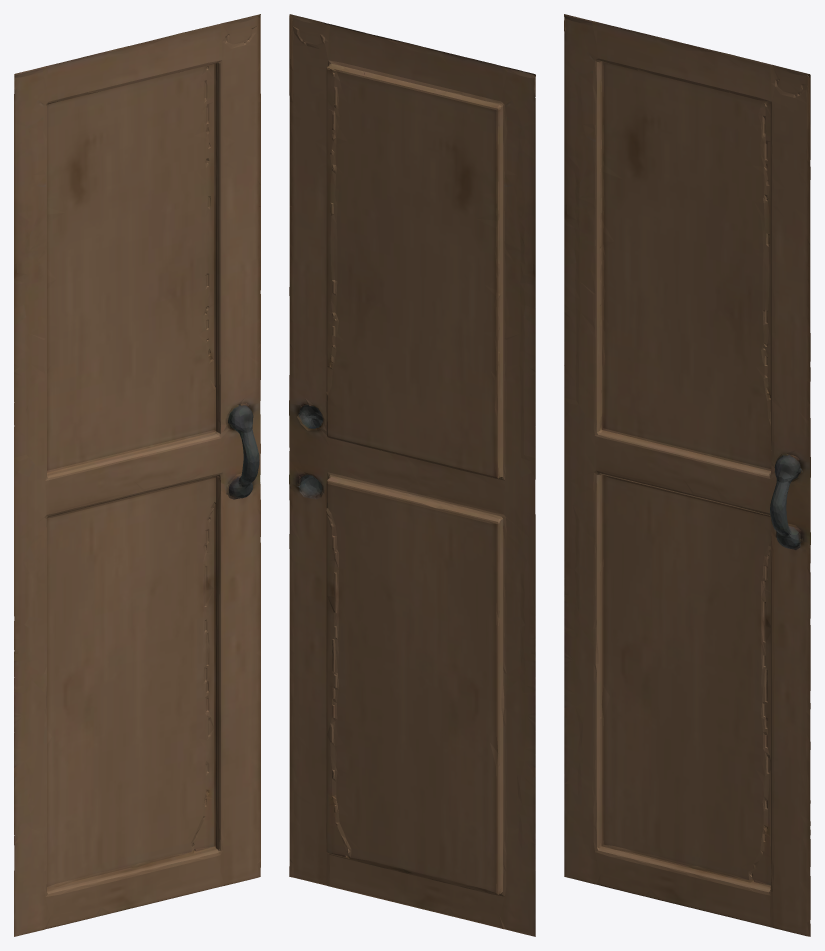
File: door_left.glb
The picture shows the model from 3 angles, left to right: view 1: azimuth 30°, elevation 25°; view 2: azimuth 150°, elevation 25°; view 3: azimuth 330°, elevation 25°; orthographic projection.
Visible parts, largest first — view 1: source_surface_0; view 2: source_surface_0; view 3: source_surface_0.
Boxes of the visible parts, x1,y1,x2,y2 form: source_surface_0: [14, 14, 260, 936]; source_surface_0: [289, 14, 535, 936]; source_surface_0: [564, 14, 810, 936].
Bounding box in the file's own units: 0.7355 × 2.46 × 0.1063.
1 material, 1 textured.
